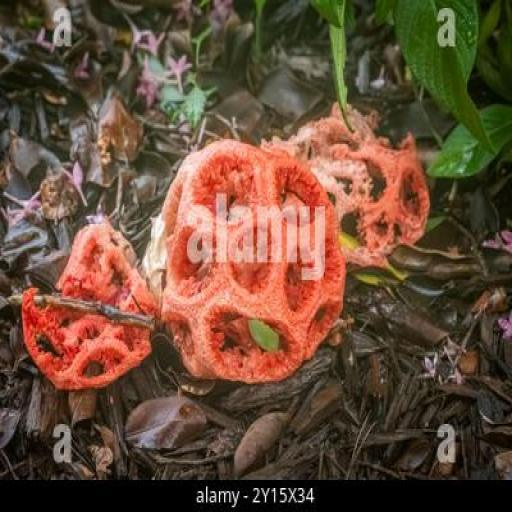mushroom: (143, 137, 345, 383), (279, 102, 437, 270), (23, 226, 165, 394)
